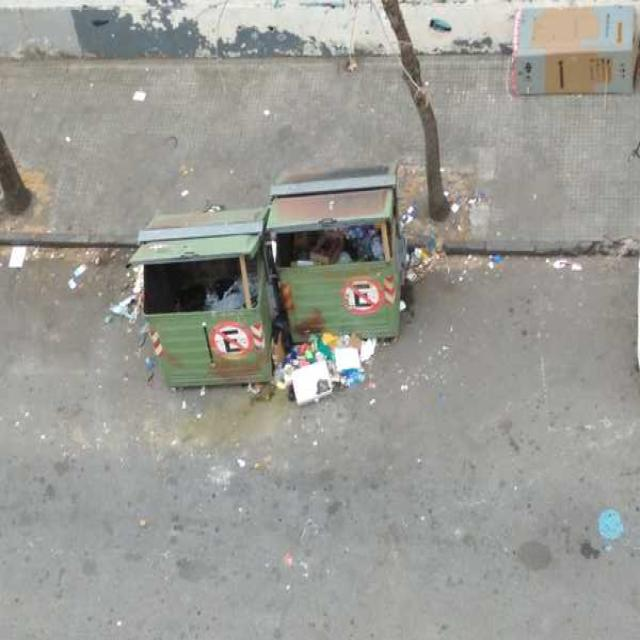garbage: (268, 326, 380, 404), (277, 215, 394, 268), (198, 253, 262, 313), (112, 244, 151, 332), (406, 237, 420, 309), (3, 244, 40, 268)
